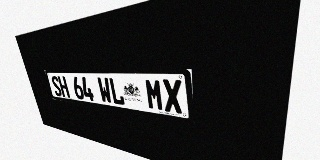4: (80, 77, 94, 101)
6: (71, 76, 85, 100)
H: (57, 76, 70, 98)
L: (108, 77, 125, 106)
M: (144, 79, 164, 111)
S: (50, 76, 63, 97)
W: (97, 77, 113, 104)
X: (162, 79, 183, 114)
